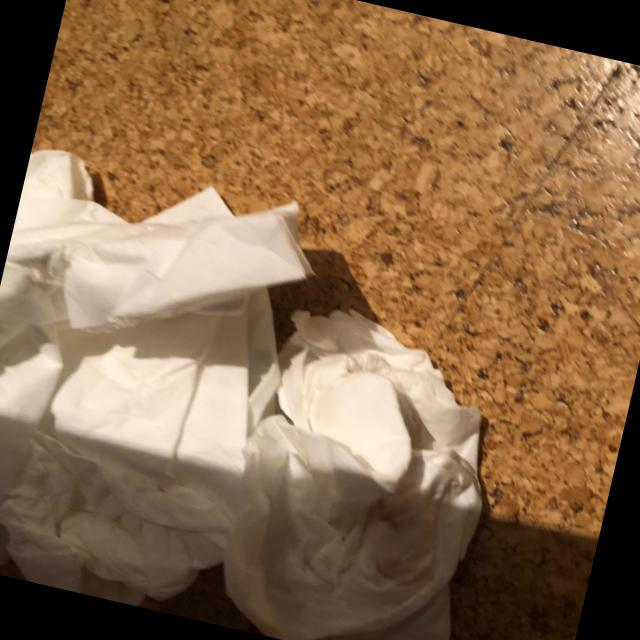organic waste: (0, 234, 311, 629), (204, 291, 522, 640), (0, 153, 330, 414)
